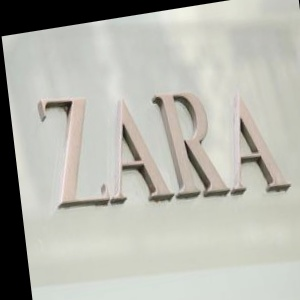zara: (263, 21, 295, 83)
